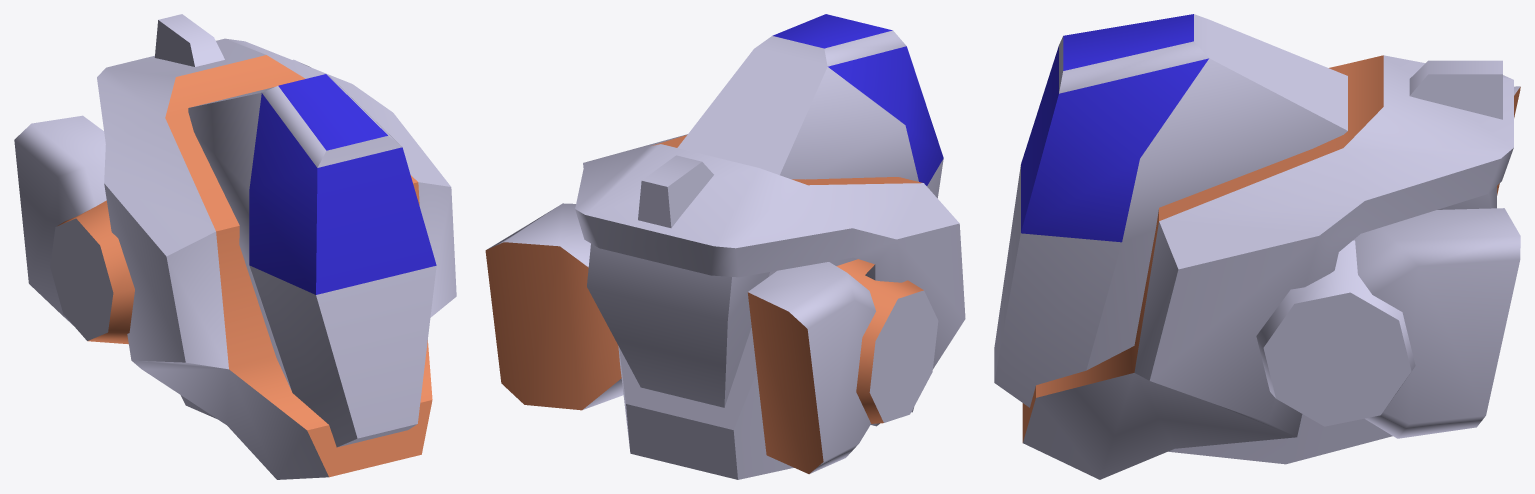
File: Cockpit_Heavy.fbx
3 renders of one model, left to right at view 1: azimuth 30°, elevation 25°; view 2: azimuth 150°, elevation 25°; view 3: azimuth 270°, elevation 25°, orthographic. The views are drawn at different scales.
Visible parts, largest first — view 1: Geom_Cockpit_heavy; view 2: Geom_Cockpit_heavy; view 3: Geom_Cockpit_heavy.
Part boxes in pixels (left/top/right/bottom): Geom_Cockpit_heavy: left=14, top=14, right=456, bottom=479; Geom_Cockpit_heavy: left=485, top=14, right=965, bottom=479; Geom_Cockpit_heavy: left=994, top=14, right=1520, bottom=479.
Size of the model in its own units: 162 by 173 by 199.
